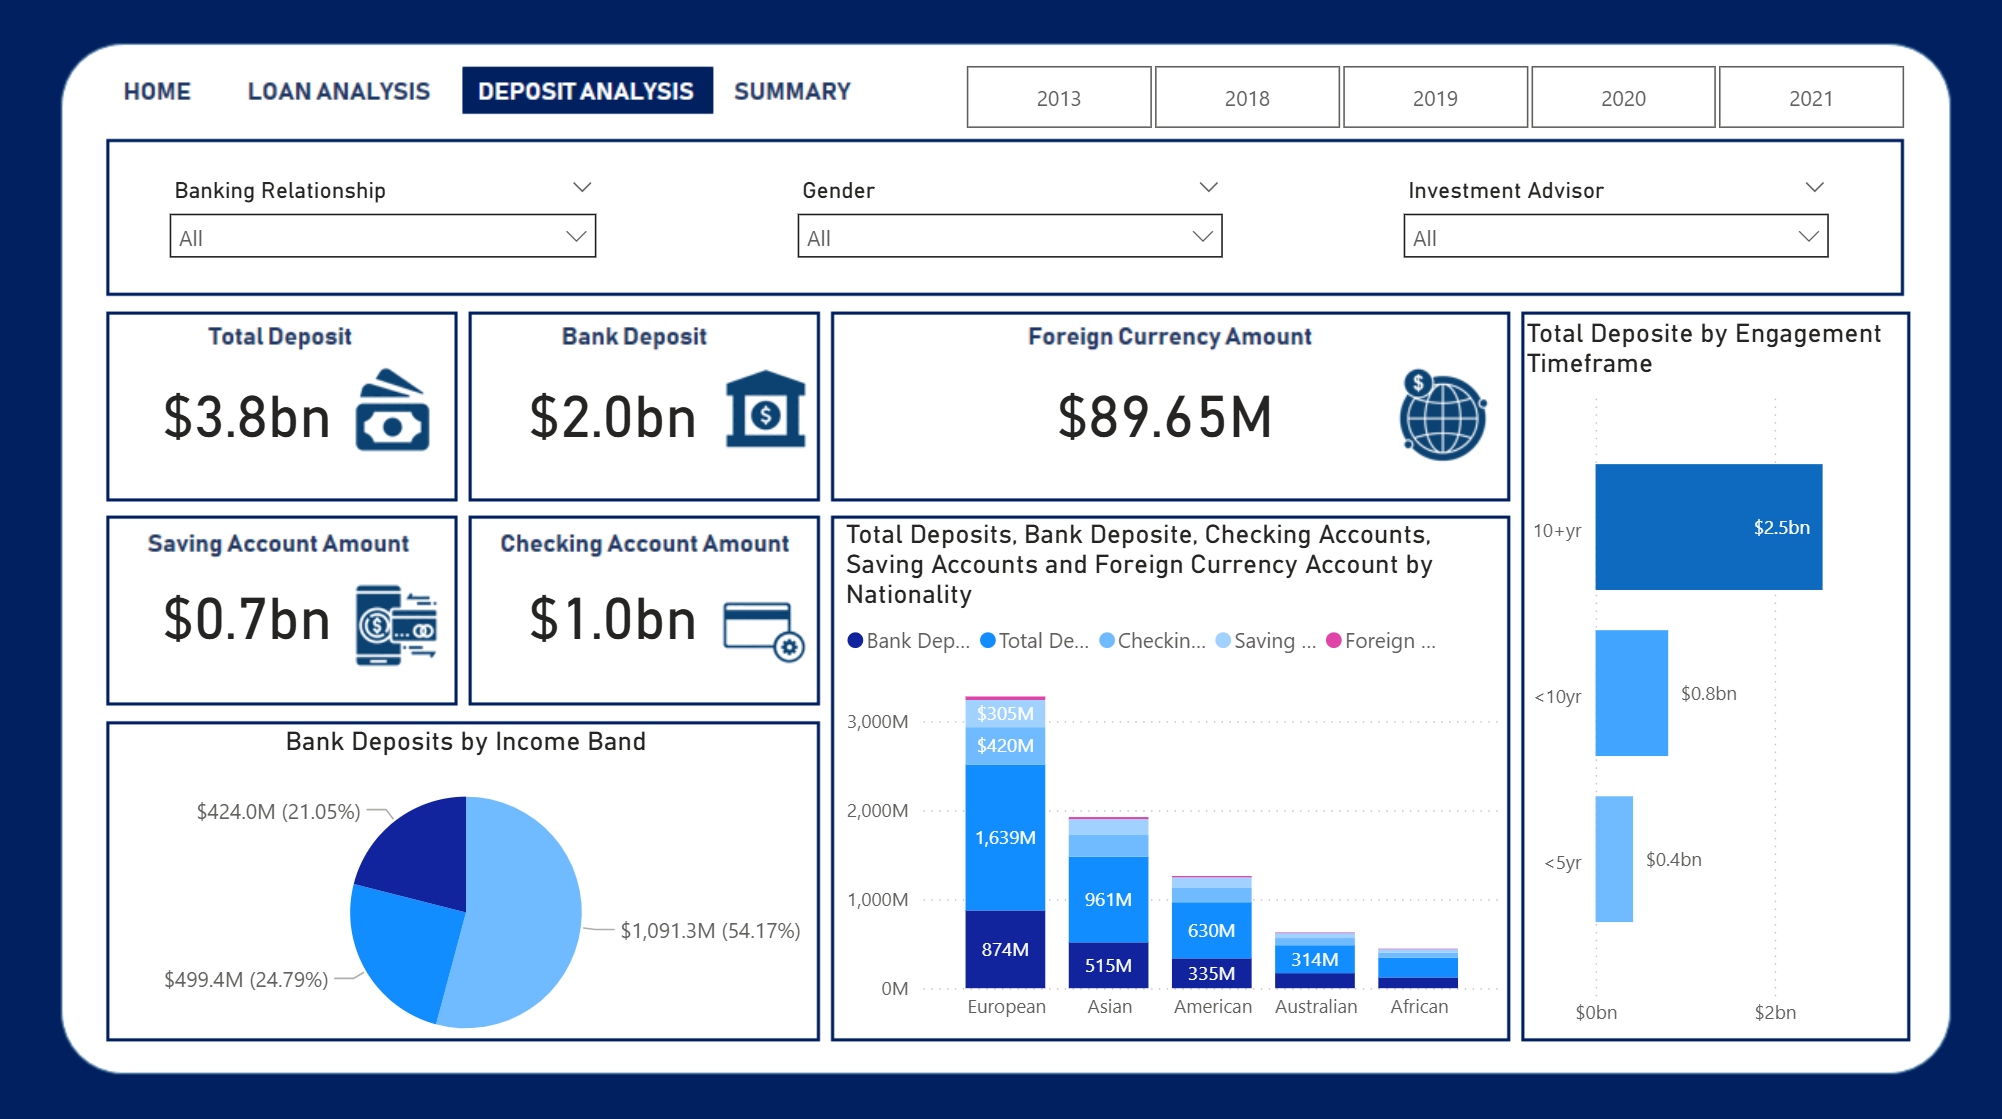

What the dashboard file says about the page in this screenshot:
{"tool":"powerbi","page":{"name":"Deposite Analysis","canvas":[1280,720],"ordinal":2},"visuals":[{"type":"slicer","fields":{"Values":["report.banking_relationship"]},"box":[99.4,112.2,292,66.3],"z":0},{"type":"slicer","fields":{"Values":["report.gender"]},"box":[499.8,112.2,291,66.3],"z":1000},{"type":"slicer","fields":{"Values":["report.investment_advisor"]},"box":[886.1,112.2,291,66.3],"z":2000},{"type":"slicer","fields":{"Values":["report.year_of_joining"]},"box":[591.6,39.5,647.6,53.5],"z":3000},{"type":"card","fields":{"Values":["report.deposite"]},"box":[88,230.8,141.5,71.4],"z":4000},{"type":"card","fields":{"Values":["Sum(report.foreign_currency_account)"]},"box":[645.1,230.8,197.6,71.4],"z":5000},{"type":"card","fields":{"Values":["Sum(report.saving_accounts)"]},"box":[88,359.5,141.5,71.4],"z":6000},{"type":"card","fields":{"Values":["Sum(report.checking_accounts)"]},"box":[321.3,359.5,141.5,71.4],"z":7000},{"type":"pieChart","title":"Bank Deposits by Income Band","fields":{"Category":["report.income_band"],"Y":["Sum(report.bank_deposits)"]},"box":[71.4,465.3,453.9,220.6],"z":8000},{"type":"columnChart","title":"Total Deposits, Bank Deposite, Checking Accounts, Saving Accounts and Foreign Currency Account by Nationality","fields":{"Category":["report.nationality"],"Y":["Sum(report.bank_deposits)","report.deposite","Sum(report.checking_accounts)","Sum(report.saving_accounts)","Sum(report.foreign_currency_account)"]},"box":[535.5,335.3,428.4,328.9],"z":9000},{"type":"card","fields":{"Values":["Sum(report.bank_deposits)"]},"box":[321.3,230.8,141.5,71.4],"z":10000},{"type":"barChart","title":"Total Deposite by Engagement Timeframe ","fields":{"Category":["report.engagement_timeframe"],"Y":["report.deposite"]},"box":[966.4,204,256.3,464.1],"z":11000},{"type":"actionButton","box":[72.7,39.5,57.4,39.5],"z":11001},{"type":"actionButton","box":[146.6,40.8,137.7,39.5],"z":11002},{"type":"actionButton","box":[462.8,39.5,88,39.5],"z":11003}]}

Visuals, with their boxes in screenshot pixels (x1, y1, x2, y2), scaled from the page's 1280x720 canvas onto the 2002x1119 screenshot:
slicer - report.banking_relationship: bbox=(155, 174, 612, 277)
slicer - report.gender: bbox=(782, 174, 1237, 277)
slicer - report.investment_advisor: bbox=(1386, 174, 1841, 277)
slicer - report.year_of_joining: bbox=(925, 61, 1938, 145)
card - report.deposite: bbox=(138, 359, 359, 470)
card - Sum(report.foreign_currency_account): bbox=(1009, 359, 1318, 470)
card - Sum(report.saving_accounts): bbox=(138, 559, 359, 670)
card - Sum(report.checking_accounts): bbox=(503, 559, 724, 670)
"Bank Deposits by Income Band" pieChart: bbox=(112, 723, 822, 1066)
"Total Deposits, Bank Deposite, Checking Accounts, Saving Accounts and Foreign Currency Account by Nationality" columnChart: bbox=(838, 521, 1508, 1032)
card - Sum(report.bank_deposits): bbox=(503, 359, 724, 470)
"Total Deposite by Engagement Timeframe " barChart: bbox=(1512, 317, 1912, 1038)
actionButton: bbox=(114, 61, 203, 123)
actionButton: bbox=(229, 63, 445, 125)
actionButton: bbox=(724, 61, 861, 123)
